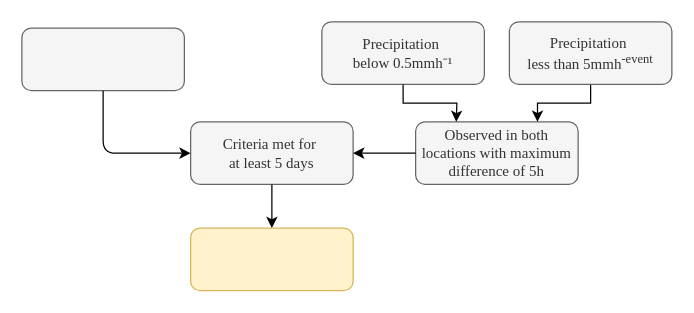
This 694x313 diagram has some shape labels left out. The shapes that lost their labels are listed below. From the top down, each one's box as (x1, y1, x2, y2) in pixels, then its label:
(21, 27, 184, 91): Atmospheric pressure above 1014hPa
(189, 227, 353, 291): High-pressure blocking
